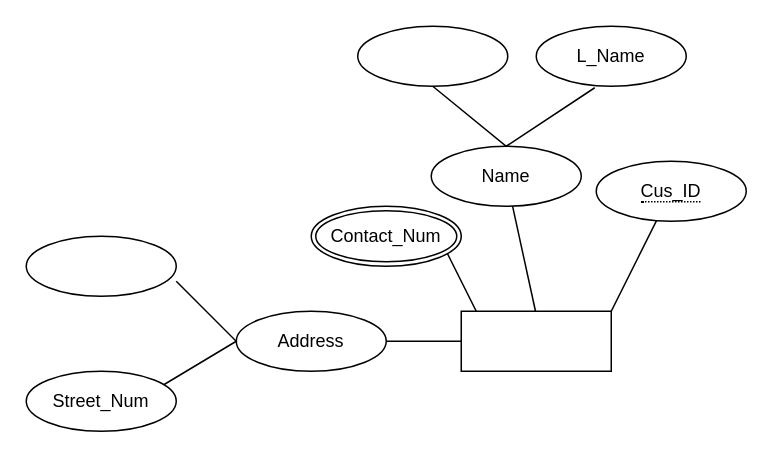
Image size: 773x458. Some labels were removed from this diagram. Each missing label, with the centre of its shape:
"Attribute" goes at (100,265).
"CUSTOMER" goes at (535,340).
"F_Name" goes at (432,55).
